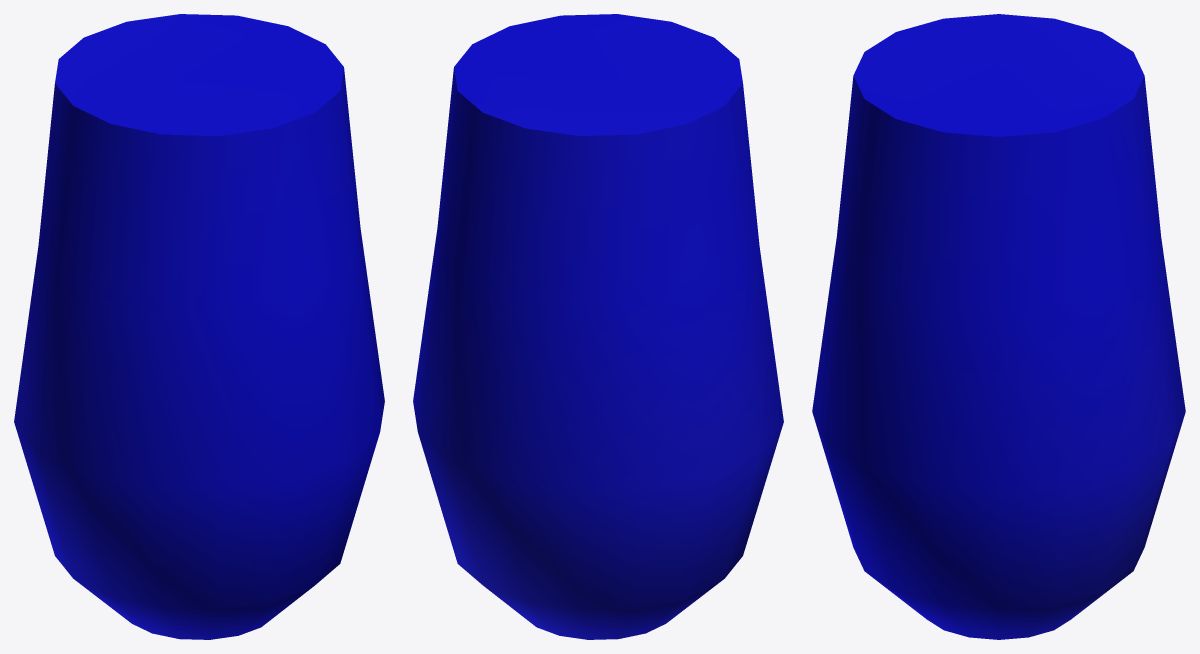
Rendered from GlowirchStump.fbx.
The picture shows the model from 3 angles, left to right: view 1: azimuth 30°, elevation 25°; view 2: azimuth 150°, elevation 25°; view 3: azimuth 270°, elevation 25°; orthographic projection.
Parts seen in each view (by area): view 1: Glowirch.Stump_LOD0; view 2: Glowirch.Stump_LOD0; view 3: Glowirch.Stump_LOD0.
Part boxes in pixels (<box>): Glowirch.Stump_LOD0: <box>14,14,384,639</box>; Glowirch.Stump_LOD0: <box>413,14,783,639</box>; Glowirch.Stump_LOD0: <box>812,14,1185,639</box>.
Size of what is drawn, in the model's own units: 56.39 by 92.37 by 56.39.
